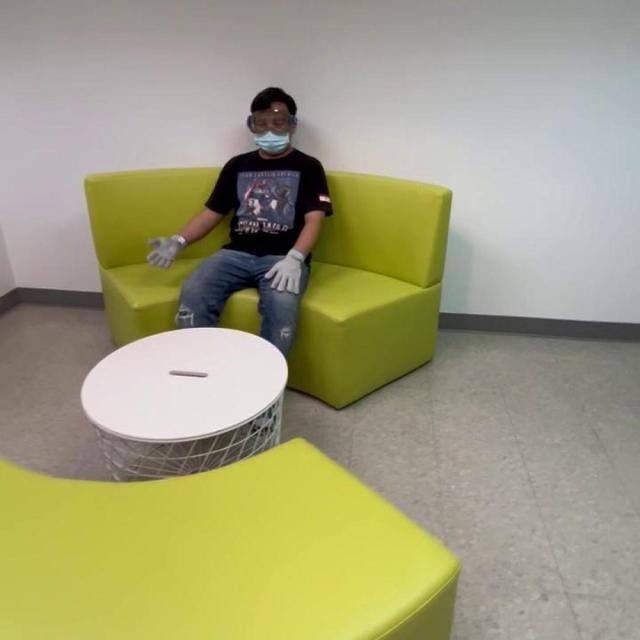gloved_hand: (267, 247, 308, 292), (147, 232, 185, 268)
